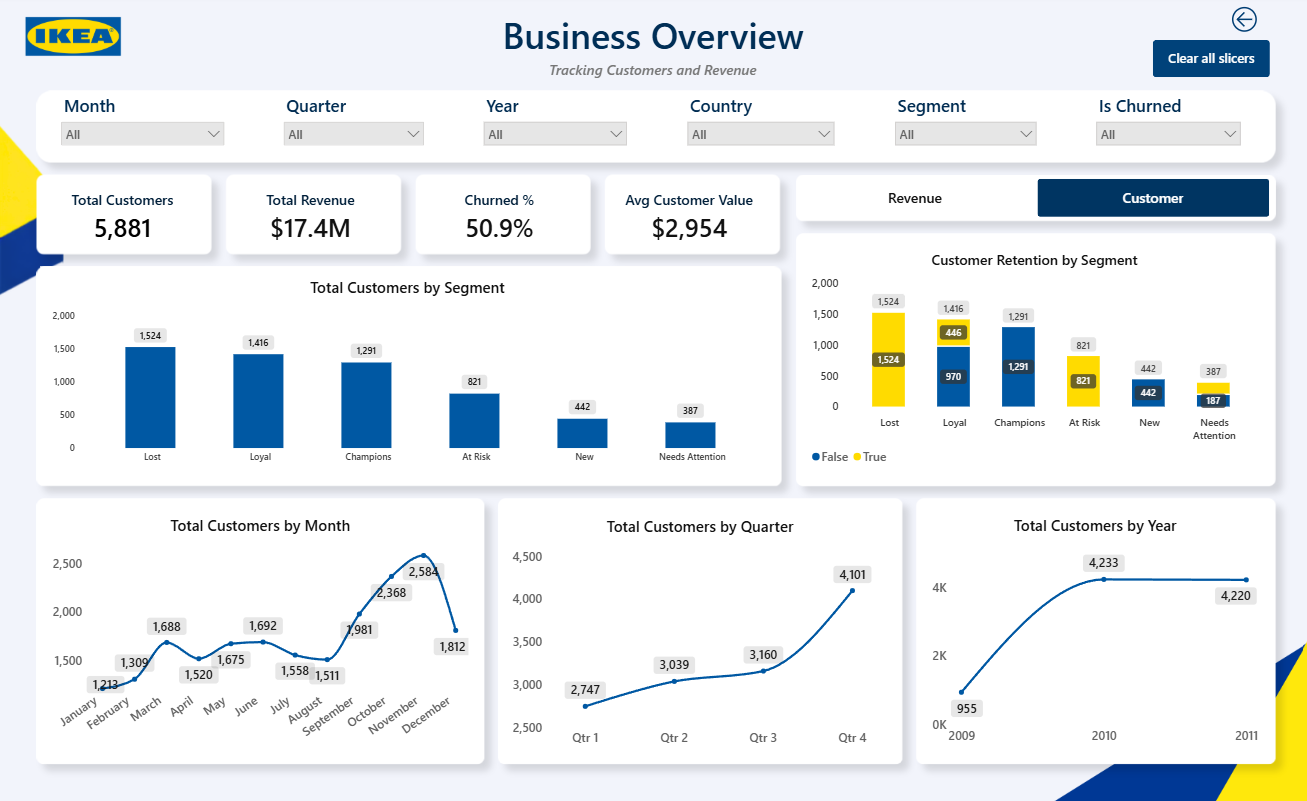

The dashboard page shown, as its layout file describes it:
{"tool":"powerbi","page":{"name":"Overview","canvas":[1920,1080],"ordinal":1},"visuals":[{"type":"cardVisual","fields":{"Data":["01_Measures.Total Customers"]},"box":[140,251.7,223.3,90],"z":0},{"type":"columnChart","fields":{"Category":["Sheet1.Segment"],"Y":["01_Measures.Total Customers"]},"box":[141.7,362.6,981,283.4],"z":0,"group":"g1"},{"type":"cardVisual","fields":{"Data":["01_Measures.Total Revenue"]},"box":[391.7,251.7,221.7,90],"z":1000},{"type":"lineChart","fields":{"Category":["Sheet1.InvoiceDate.Variation.Date Hierarchy.Month"],"Y":["01_Measures.Total Customers"]},"box":[141.7,679.2,588.1,343.8],"z":1000,"group":"g1"},{"type":"cardVisual","fields":{"Data":["01_Measures.Avg Customer Value"]},"box":[896.3,252.1,224.5,90.2],"z":2000},{"type":"lineChart","fields":{"Category":["Sheet1.InvoiceDate.Variation.Date Hierarchy.Quarter"],"Y":["01_Measures.Total Customers"]},"box":[756.4,681,534.1,343.8],"z":2000,"group":"g1"},{"type":"slicer","title":"Month","fields":{"Values":["Sheet1.InvoiceDate.Variation.Date Hierarchy.Month"]},"box":[164.7,132.2,227,82.3],"z":3000},{"type":"columnChart","title":"Customer Retention by Segment","fields":{"Category":["Sheet1.Segment"],"Series":["Sheet1.IsChurned"],"Y":["01_Measures.Total Customers"]},"box":[1155.8,325.8,629.2,322.2],"z":3000,"group":"g1"},{"type":"slicer","title":"Month","fields":{"Values":["Sheet1.InvoiceDate.Variation.Date Hierarchy.Quarter"]},"box":[462.7,132.5,196.9,103.1],"z":4000},{"type":"lineChart","fields":{"Category":["Sheet1.InvoiceDate.Variation.Date Hierarchy.Year"],"Y":["01_Measures.Total Customers"]},"box":[1317.8,679.2,467.5,342.3],"z":4000,"group":"g1"},{"type":"slicer","title":"Month","fields":{"Values":["Sheet1.InvoiceDate.Variation.Date Hierarchy.Year"]},"box":[730.3,132.5,200.6,103.1],"z":5000},{"type":"slicer","title":"Month","fields":{"Values":["Sheet1.Country"]},"box":[1001.6,132.5,206.1,103.1],"z":6000},{"type":"slicer","title":"Month","fields":{"Values":["Sheet1.Segment"]},"box":[1278.4,132.5,198.8,103.1],"z":7000},{"type":"slicer","title":"Month","fields":{"Values":["Sheet1.IsChurned"]},"box":[1547.9,132.5,202.5,103.1],"z":8000},{"type":"actionButton","box":[1628.8,60.7,156.4,49.7],"z":9000},{"type":"image","box":[93.9,0,184.1,110.4],"z":10000},{"type":"textbox","box":[702.3,20.2,515.3,66.3],"z":11000},{"type":"textbox","box":[780.5,86.5,360.7,38.7],"z":12000},{"type":"cardVisual","fields":{"Data":["01_Measures.Churned %"]},"box":[648.3,251.7,215,90],"z":13000},{"type":"actionButton","box":[1702.5,9.2,93.9,44.2],"z":14000},{"type":"group","id":"g1","title":"Customers","box":[141.7,325.8,1643.6,699],"z":15000},{"type":"bookmarkNavigator","box":[1155.8,244.8,629.5,51.5],"z":17000}]}

Visuals, with their boxes on the page's 1920x1080 design canvas (x1, y1, x2, y2). These are canvas units, not pixel positions in the 1307x801 screenshot, which may show the page scaled, cropped or inside an application window:
cardVisual - 01_Measures.Total Customers: box(140, 252, 363, 342)
columnChart - Sheet1.Segment x 01_Measures.Total Customers: box(142, 363, 1123, 646)
cardVisual - 01_Measures.Total Revenue: box(392, 252, 613, 342)
lineChart - Sheet1.InvoiceDate.Variation.Date Hierarchy.Month x 01_Measures.Total Customers: box(142, 679, 730, 1023)
cardVisual - 01_Measures.Avg Customer Value: box(896, 252, 1121, 342)
lineChart - Sheet1.InvoiceDate.Variation.Date Hierarchy.Quarter x 01_Measures.Total Customers: box(756, 681, 1290, 1025)
"Month" slicer: box(165, 132, 392, 214)
"Customer Retention by Segment" columnChart: box(1156, 326, 1785, 648)
"Month" slicer: box(463, 132, 660, 236)
lineChart - Sheet1.InvoiceDate.Variation.Date Hierarchy.Year x 01_Measures.Total Customers: box(1318, 679, 1785, 1022)
"Month" slicer: box(730, 132, 931, 236)
"Month" slicer: box(1002, 132, 1208, 236)
"Month" slicer: box(1278, 132, 1477, 236)
"Month" slicer: box(1548, 132, 1750, 236)
actionButton: box(1629, 61, 1785, 110)
image: box(94, 0, 278, 110)
textbox: box(702, 20, 1218, 86)
textbox: box(780, 86, 1141, 125)
cardVisual - 01_Measures.Churned %: box(648, 252, 863, 342)
actionButton: box(1702, 9, 1796, 53)
"Customers" group: box(142, 326, 1785, 1025)
bookmarkNavigator: box(1156, 245, 1785, 296)
